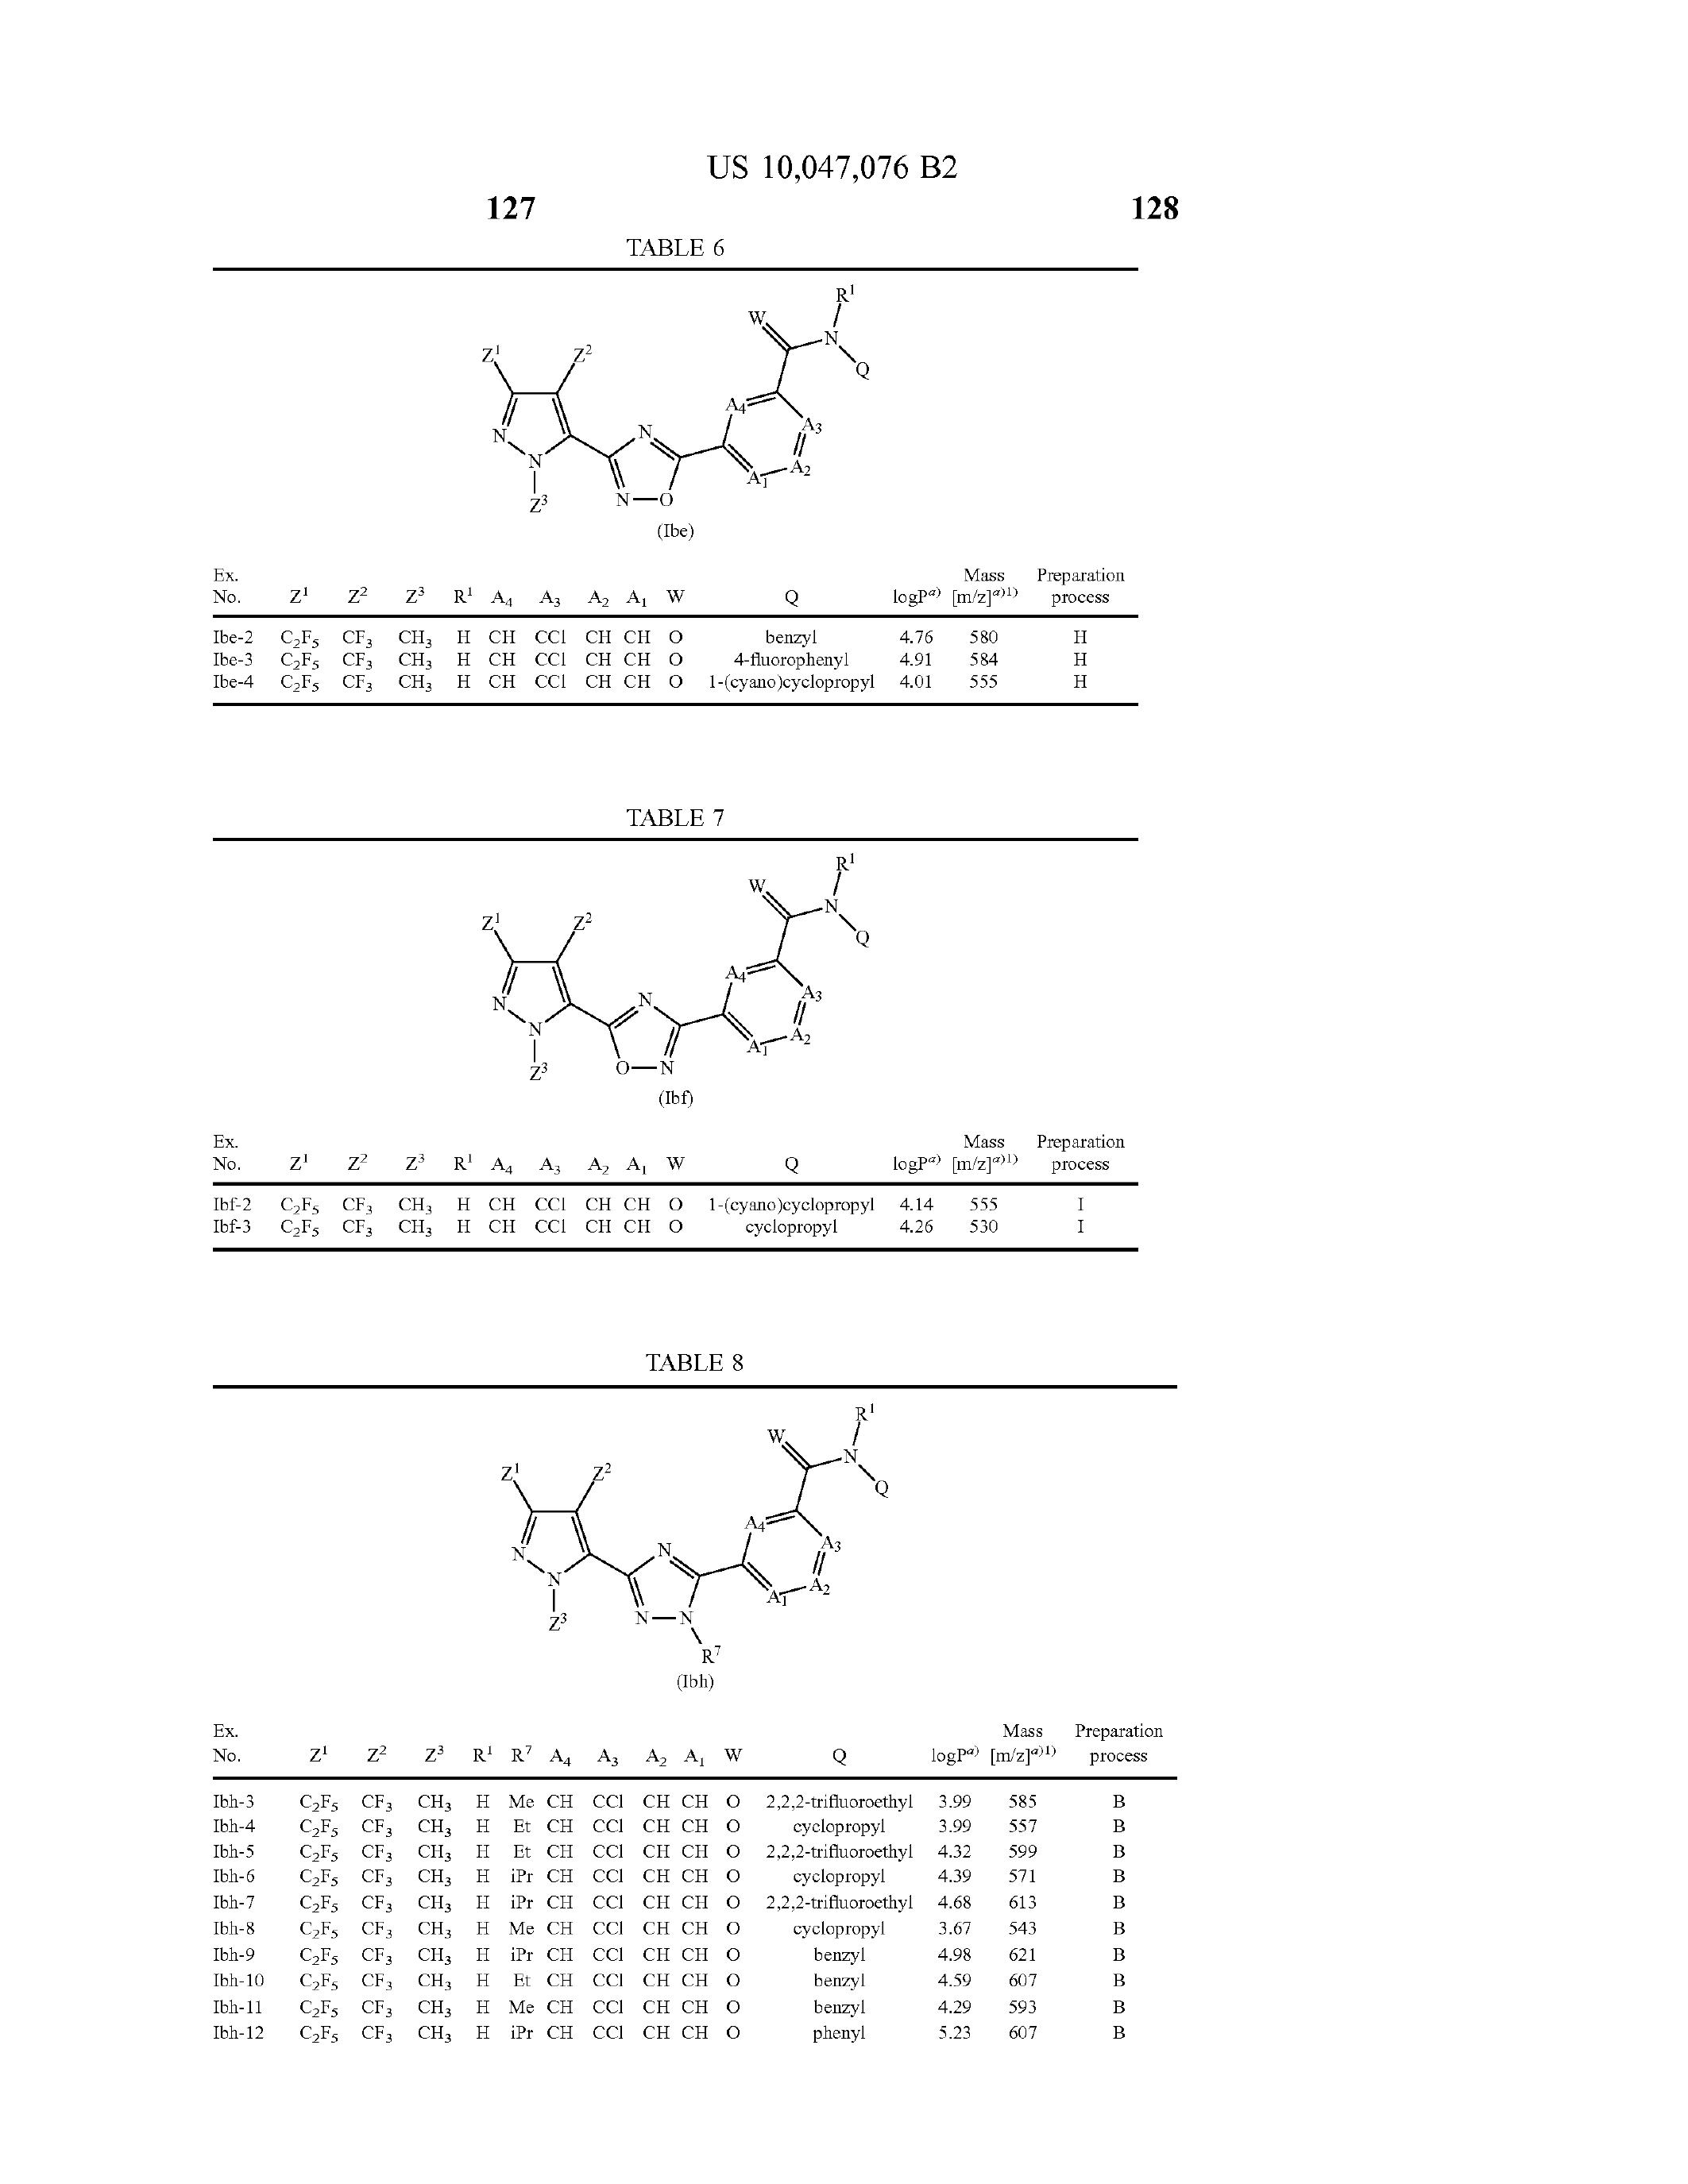relevant-structures: (436, 851, 986, 1205), (475, 1399, 1046, 1721), (427, 255, 915, 583)
